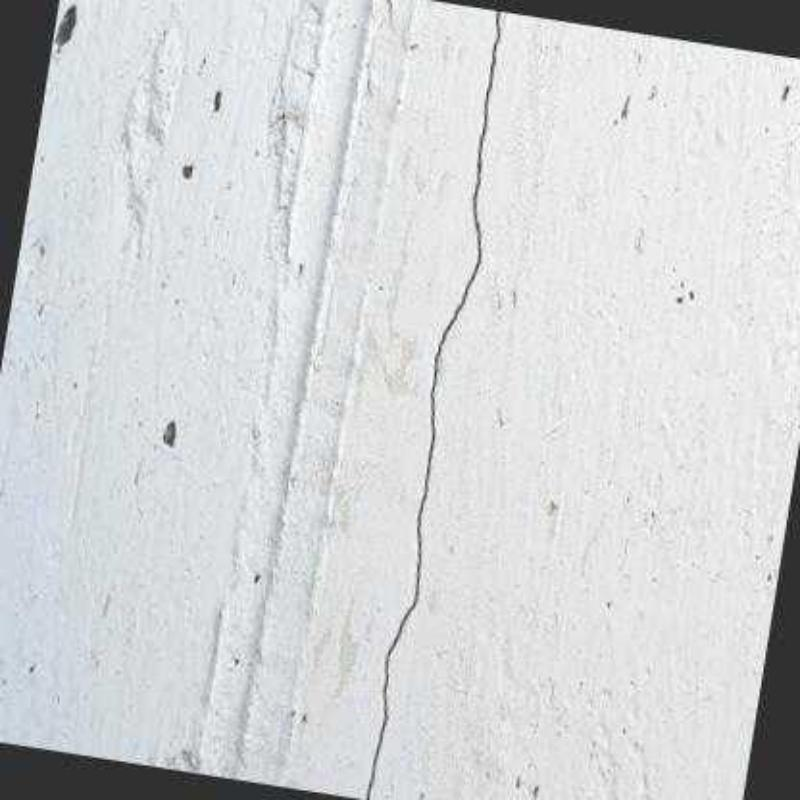pothole: (365, 10, 502, 798)
